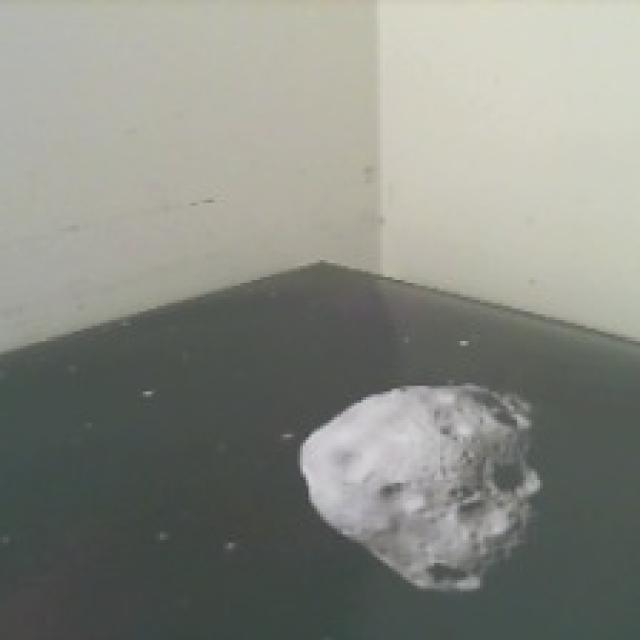Asteroid: (296, 376, 555, 604)
